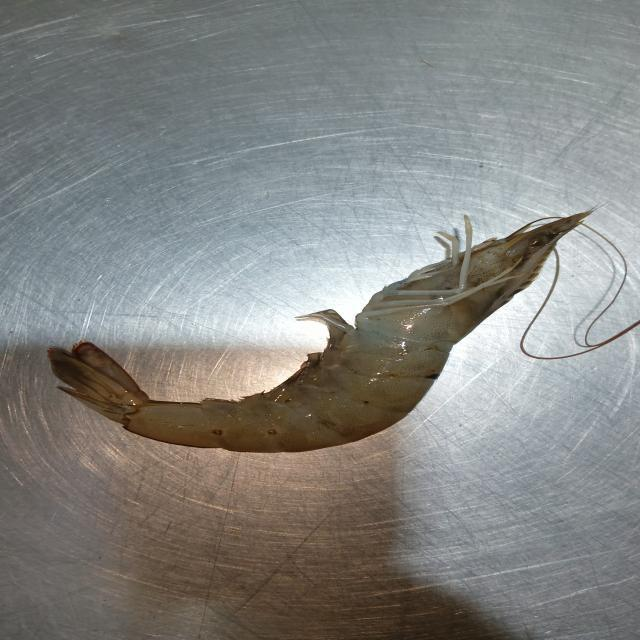shrimp: (48, 214, 587, 452)
